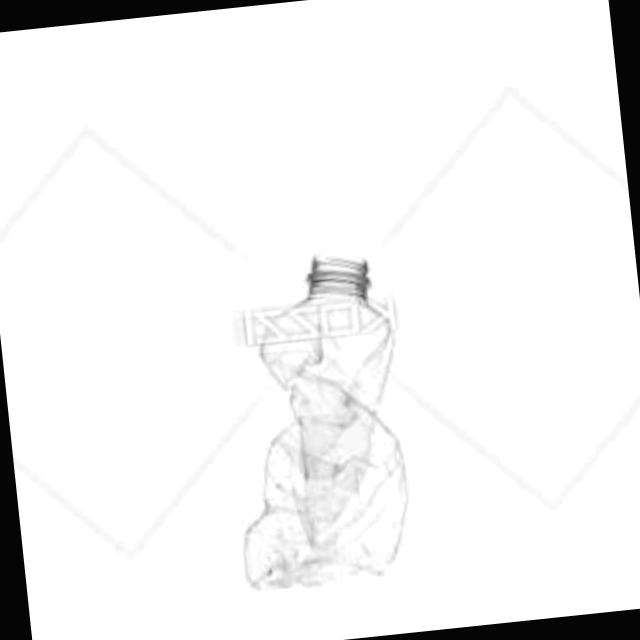Plastic: (201, 218, 446, 626), (0, 261, 39, 640)
